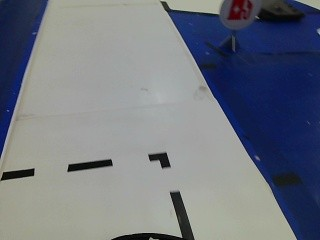battery: (219, 0, 256, 31)
